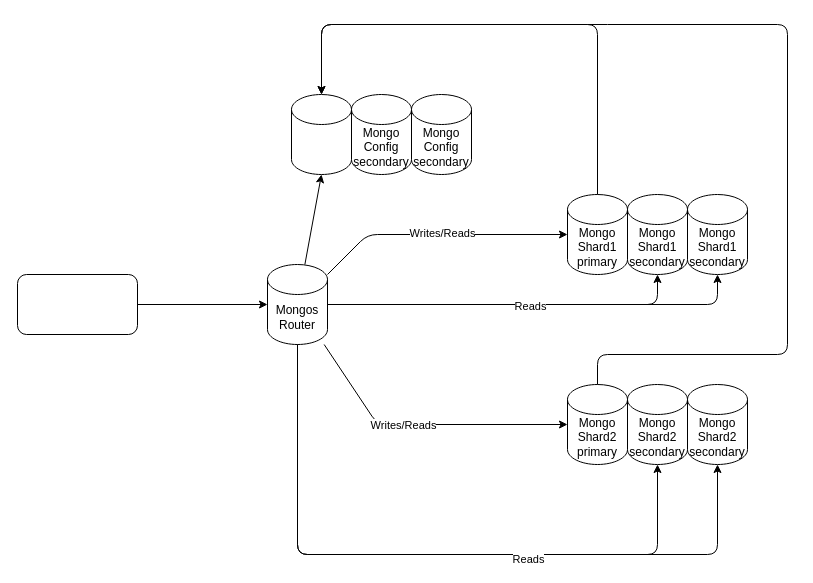
Some shapes in this 813 by 583 pixel diagram are drawn without their labels. Here are the shapes that lost their labels. From the top down, the centre of each, then its label:
At point 321,134: "Mongo Config primary".
At point 77,304: "pymongo-api".
